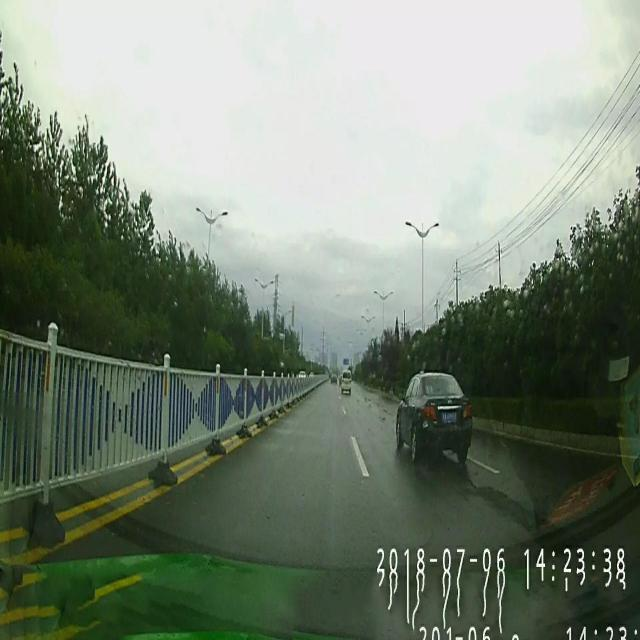car: (395, 370, 473, 460), (342, 370, 352, 396), (329, 370, 336, 384)
